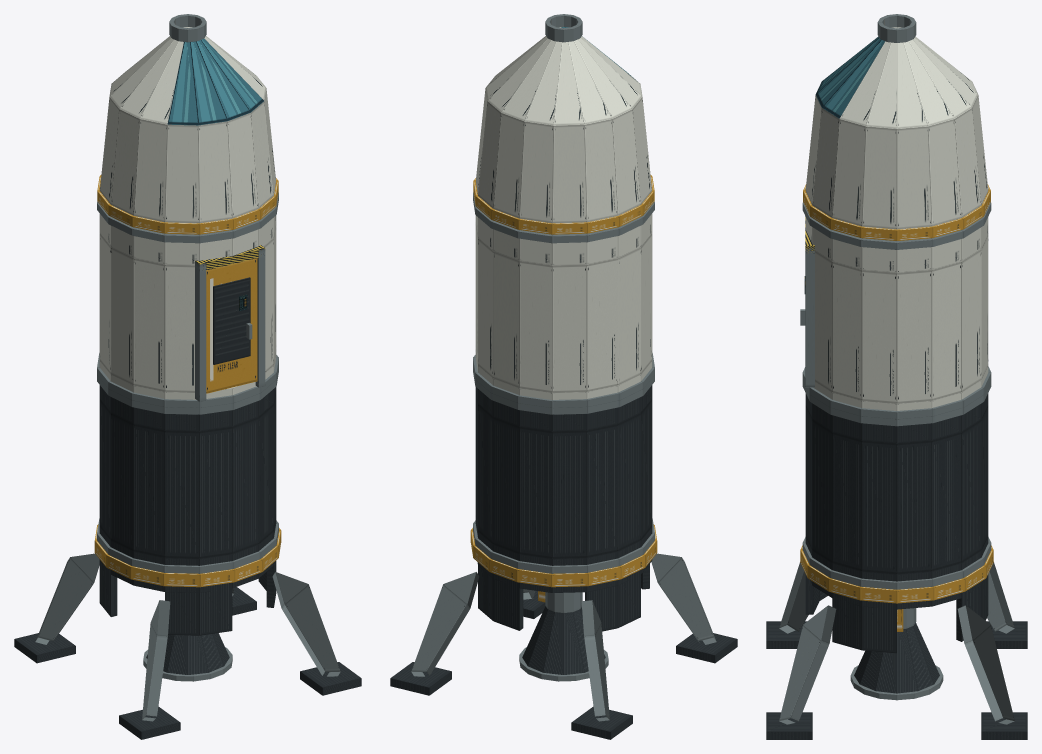
File: rocket-courier.glb
The picture shows the model from 3 angles, left to right: view 1: azimuth 30°, elevation 25°; view 2: azimuth 150°, elevation 25°; view 3: azimuth 270°, elevation 25°; orthographic projection. The views are drawn at different scales.
Visible parts, largest first — view 1: 02_TankSection_hull, 04_CommandCapsule_hull, 03_CargoBay_hull, 03_CargoBay_frame, 04_CommandCapsule_glass, 01_Propulsion_hull, LEG_01_landing_leg, LEG_03_landing_leg, Door leaf, LEG_04_landing_leg, 02_TankSection_frame, Door inset (+6 smaller); view 2: 03_CargoBay_hull, 02_TankSection_hull, 04_CommandCapsule_hull, 01_Propulsion_hull, LEG_02_landing_leg, ENGINE_01_engine, LEG_04_landing_leg, 03_CargoBay_frame, LEG_03_landing_leg, 02_TankSection_frame, 01_Propulsion_frame, 04_CommandCapsule_frame (+3 smaller); view 3: 02_TankSection_hull, 03_CargoBay_hull, 04_CommandCapsule_hull, 03_CargoBay_frame, 01_Propulsion_hull, LEG_01_landing_leg, LEG_02_landing_leg, ENGINE_01_engine, 02_TankSection_frame, 01_Propulsion_frame, 04_CommandCapsule_frame, 04_CommandCapsule_glass (+5 smaller).
Part boxes in pixels (x1,y1,x2,y2): 02_TankSection_hull: [99, 385, 276, 565]; 04_CommandCapsule_hull: [99, 27, 276, 223]; 03_CargoBay_hull: [99, 213, 276, 399]; 03_CargoBay_frame: [97, 192, 278, 407]; 04_CommandCapsule_glass: [167, 38, 263, 125]; 01_Propulsion_hull: [99, 560, 276, 635]; LEG_01_landing_leg: [272, 572, 361, 695]; LEG_03_landing_leg: [14, 553, 99, 663]; Door leaf: [206, 258, 257, 393]; LEG_04_landing_leg: [119, 600, 180, 739]; 02_TankSection_frame: [97, 366, 278, 573]; Door inset: [213, 277, 250, 364]; 03_CargoBay_hull: [475, 213, 652, 399]; 02_TankSection_hull: [475, 385, 652, 565]; 04_CommandCapsule_hull: [475, 27, 652, 223]; 01_Propulsion_hull: [478, 564, 649, 631]; LEG_02_landing_leg: [390, 572, 479, 695]; ENGINE_01_engine: [522, 591, 605, 674]; LEG_04_landing_leg: [651, 553, 737, 663]; 03_CargoBay_frame: [473, 192, 654, 407]; LEG_03_landing_leg: [571, 600, 632, 739]; 02_TankSection_frame: [473, 366, 654, 573]; 01_Propulsion_frame: [470, 524, 657, 587]; 04_CommandCapsule_frame: [473, 175, 654, 234]; 02_TankSection_hull: [805, 393, 988, 581]; 03_CargoBay_hull: [805, 217, 988, 410]; 04_CommandCapsule_hull: [805, 27, 988, 229]; 03_CargoBay_frame: [802, 202, 991, 419]; 01_Propulsion_hull: [805, 574, 988, 653]; LEG_01_landing_leg: [766, 605, 836, 739]; LEG_02_landing_leg: [957, 605, 1027, 739]; ENGINE_01_engine: [854, 608, 939, 693]; 02_TankSection_frame: [802, 380, 991, 589]; 01_Propulsion_frame: [800, 545, 993, 603]; 04_CommandCapsule_frame: [803, 184, 990, 240]; 04_CommandCapsule_glass: [815, 36, 885, 118].
Size of the model in its own units: 4.06 by 11.35 by 4.06.
Materials: 1 (1 with a texture image).
